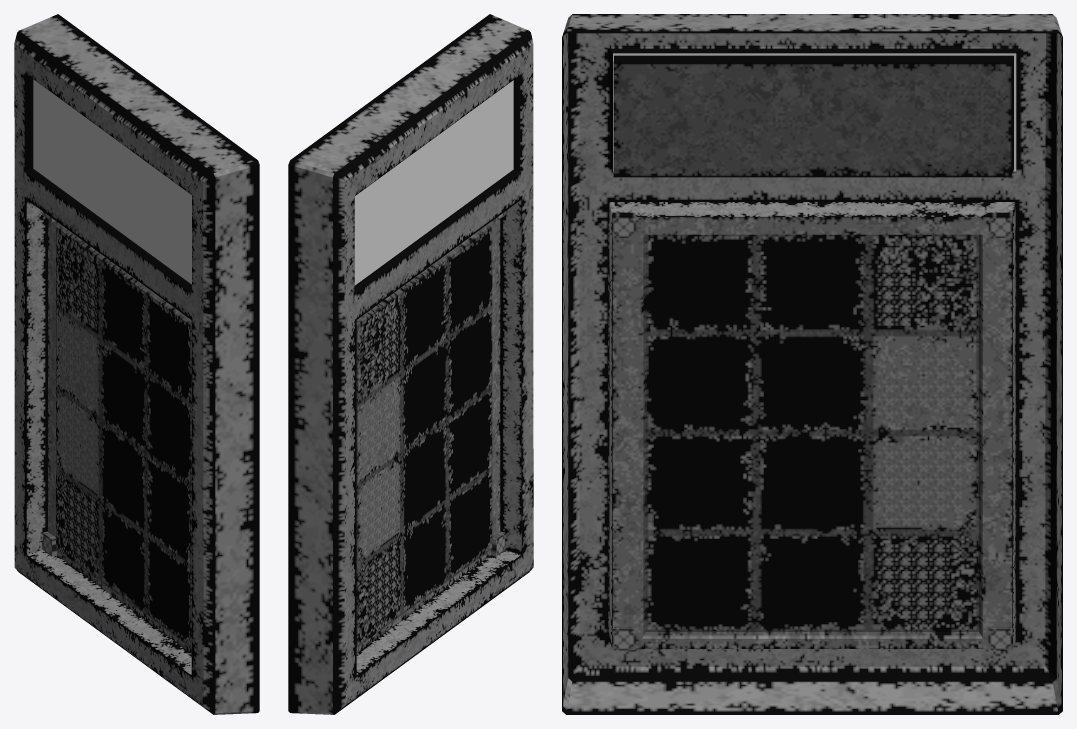
Rendered from numberpad.fbx.
3 views of the same model, side by side, from view 1: azimuth 30°, elevation 25°; view 2: azimuth 150°, elevation 25°; view 3: azimuth 270°, elevation 25° (orthographic). The views are drawn at different scales.
Visible parts, largest first — view 1: Numberpad; view 2: Numberpad; view 3: Numberpad.
Boxes of the visible parts, x1,y1,x2,y2 form: Numberpad: [14, 14, 259, 714]; Numberpad: [288, 14, 533, 714]; Numberpad: [562, 14, 1062, 714].
Size of the model in its own units: 3.36 by 36.17 by 24.08.
